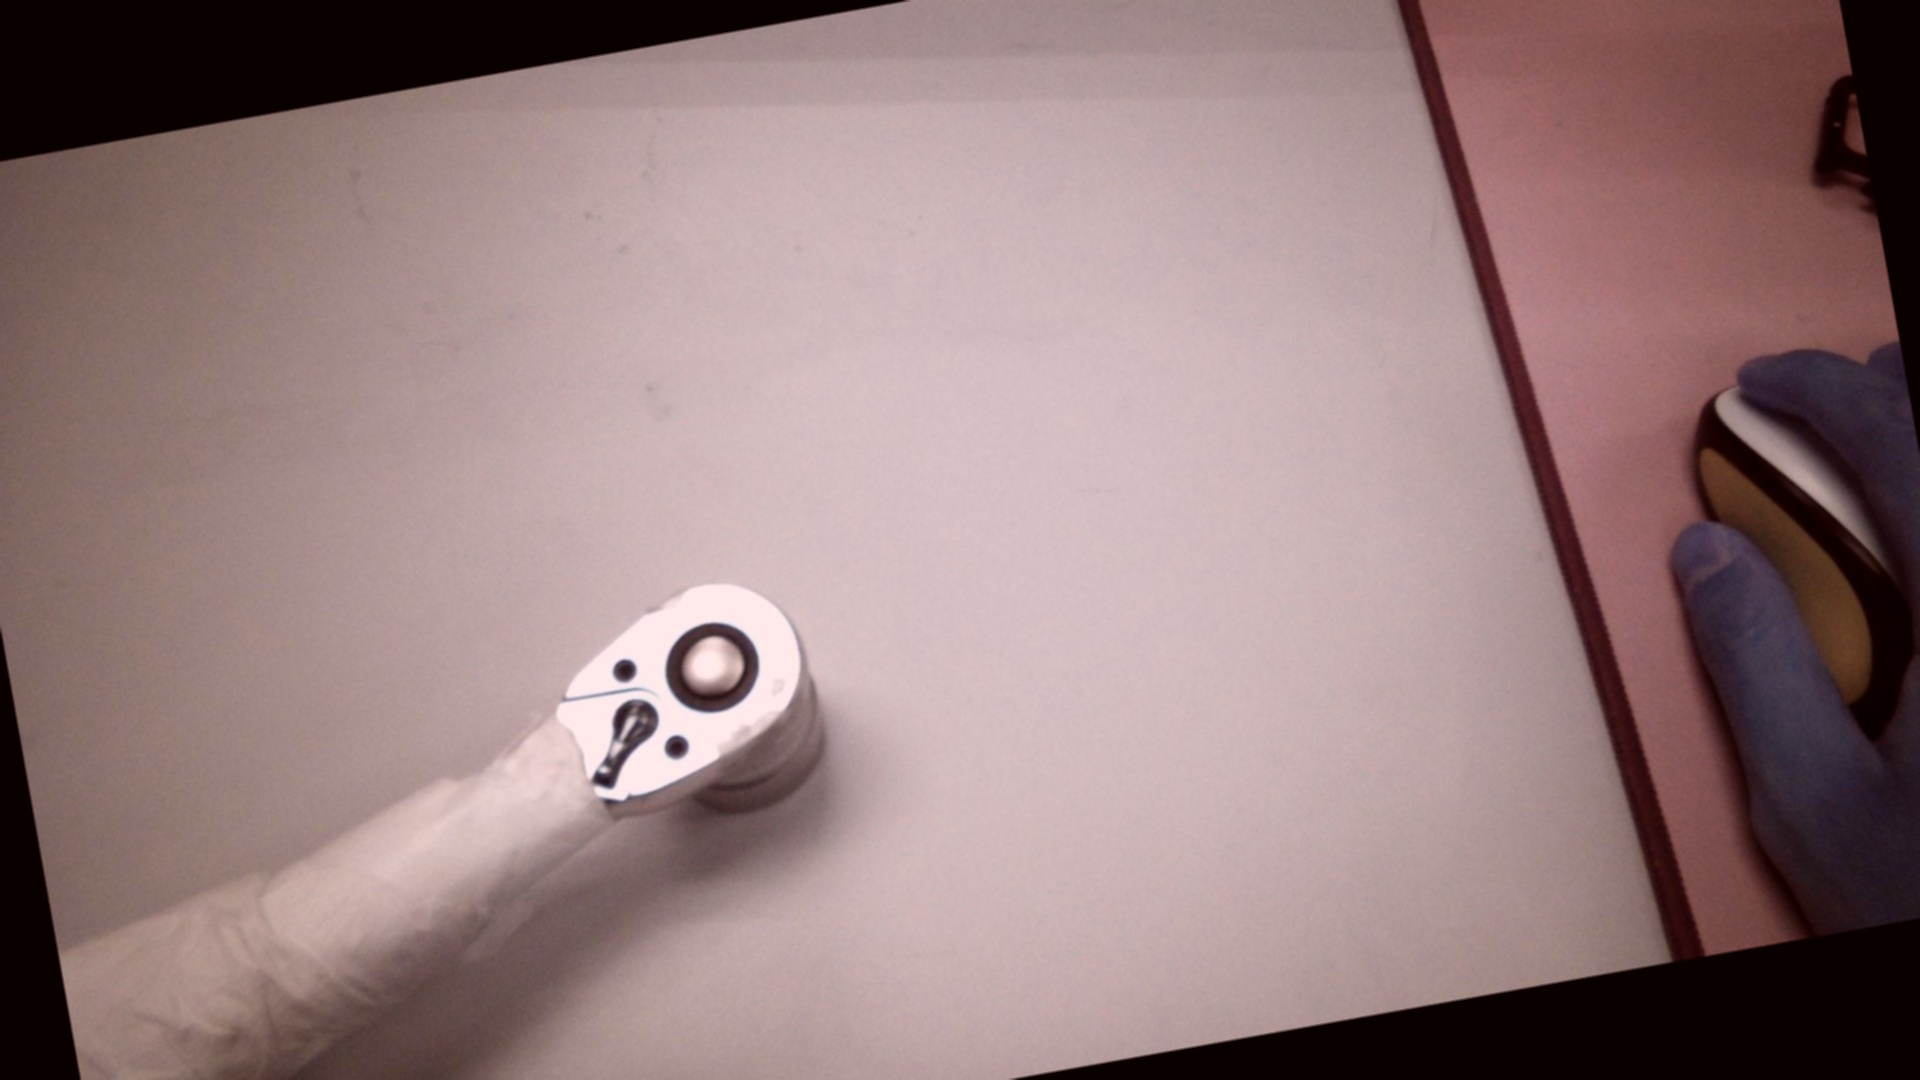wrench: (649, 613, 765, 727)
